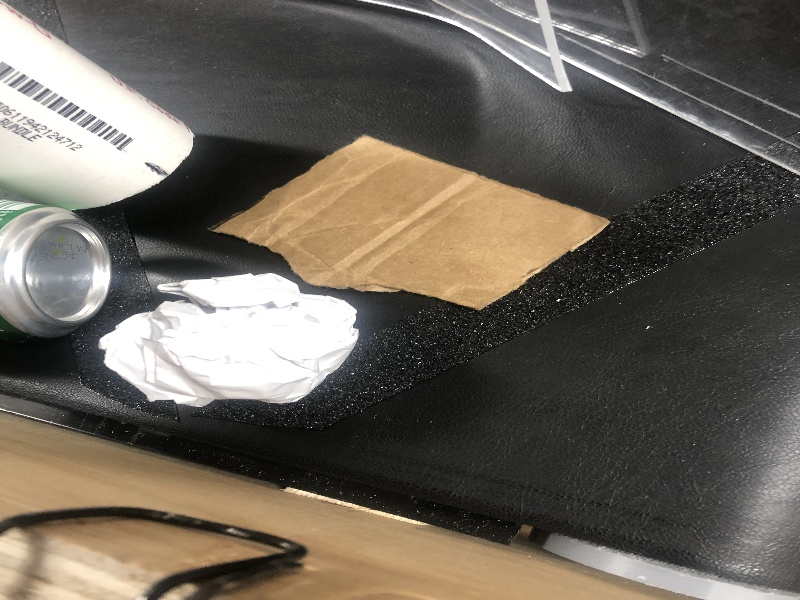cardboard: (208, 127, 637, 319)
metal: (1, 198, 112, 333)
paper: (93, 271, 364, 424)
